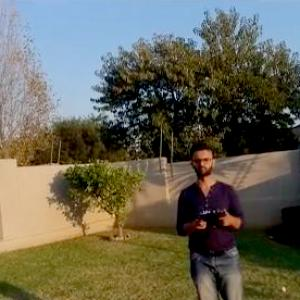follow: (171, 135, 251, 299)
